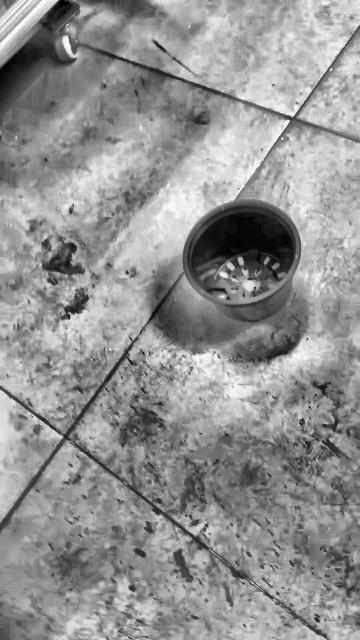pot: (183, 201, 301, 320)
